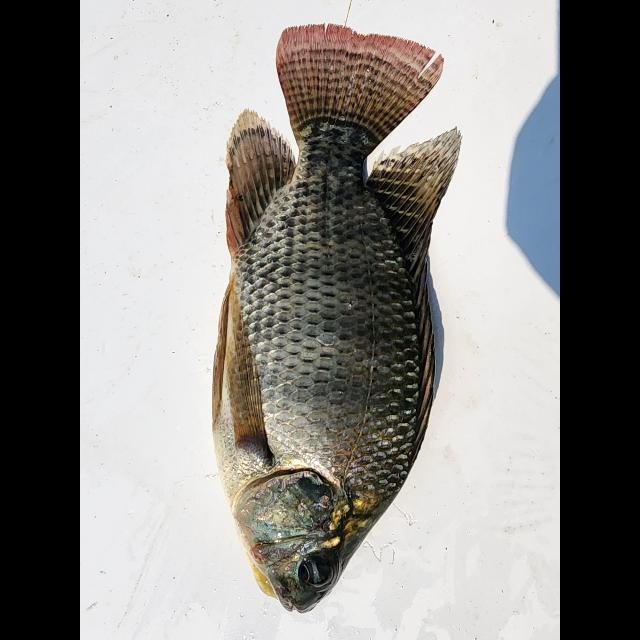Tilapia: (212, 21, 462, 614)
